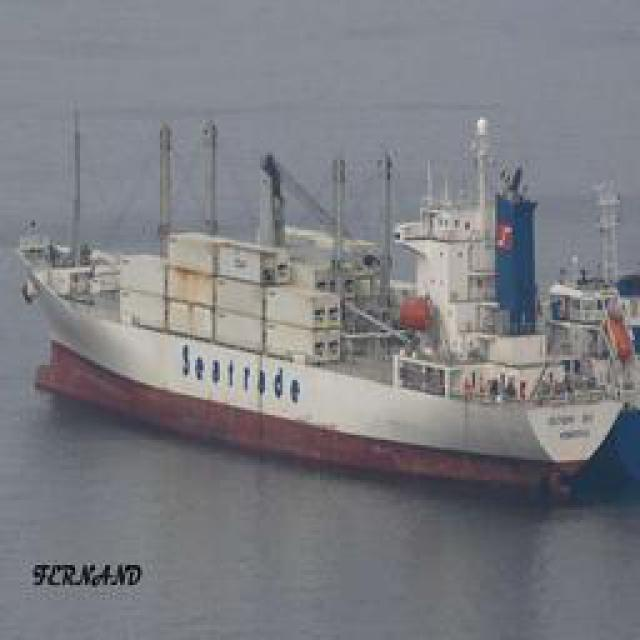Ship: (35, 105, 640, 503)
